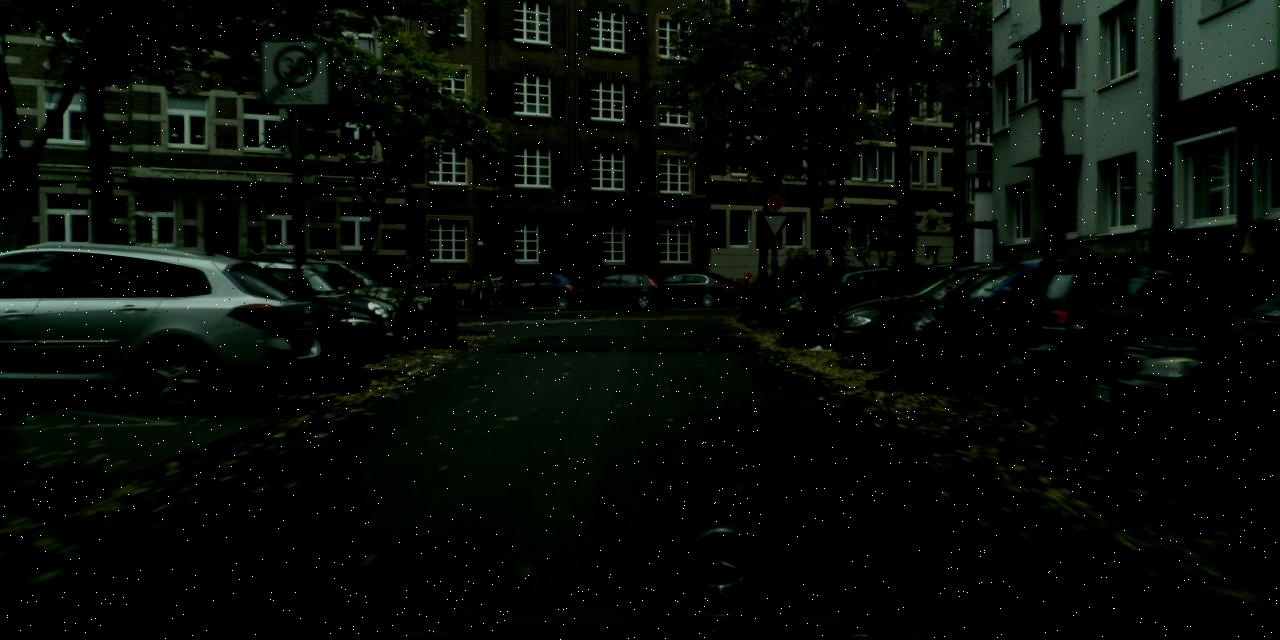ped: (1223, 230, 1279, 368)
